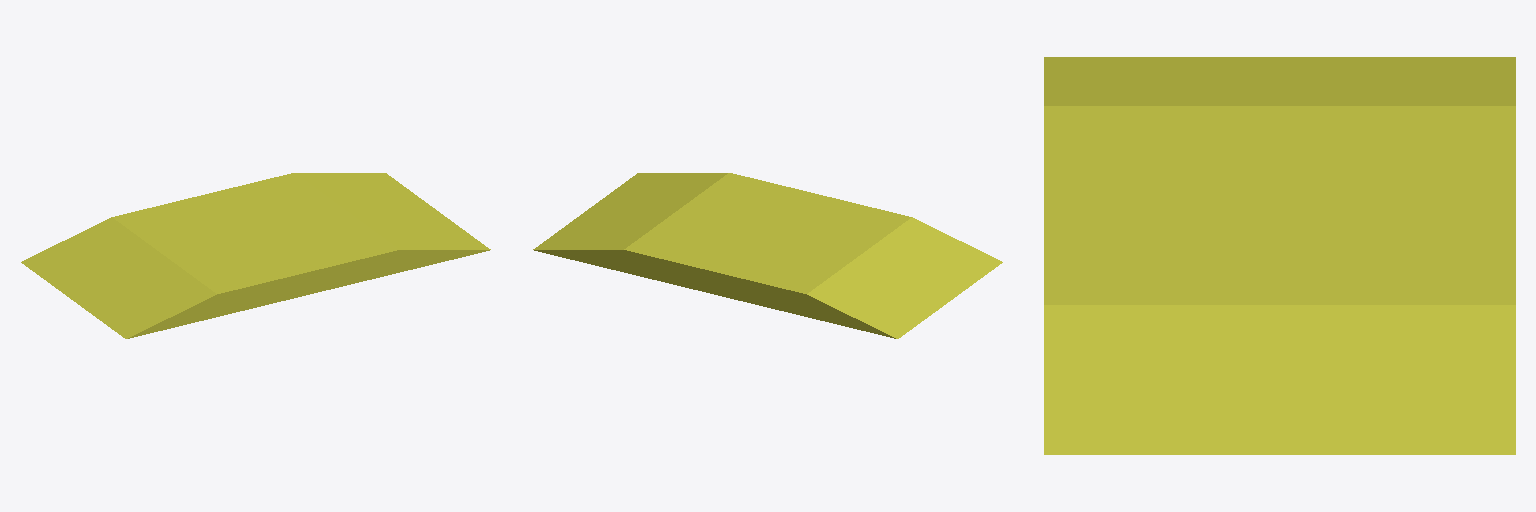
URDF robot description (Part1):
<?xml version="1.0" encoding="utf-8"?>
<!-- This URDF was automatically created by SolidWorks to URDF Exporter! Originally created by [author] ([email redacted]) 
     Commit Version: 1.5.1-0-g916b5db  Build Version: 1.5.7152.31018
     For more information, please see http://wiki.ros.org/sw_urdf_exporter -->
<robot
  name="Part1">
  <link
    name="ramp_5">
    <inertial>
      <origin
        xyz="7.5814E-16 7.67928484115444E-17 -0.005"
        rpy="0 0 0" />
      <mass
        value="500" />
      <inertia
        ixx="180.35"
        ixy="-6.0423E-14"
        ixz="4.7564E-15"
        iyy="450.35"
        iyz="1.08287265732095E-14"
        izz="630" />
    </inertial>
    <visual>
      <origin
        xyz="2.5 0 0"
        rpy="1.5707963267949 0 0" />
      <geometry>
        <mesh
          filename="package://ramp_5/meshes/ramp_5.STL" scale="1.5 3.958 1.5" />
      </geometry>
      <material
        name="">
        <color
          rgba="0.8 0.8 0.3 1" />
        <texture
          filename="package://ramp_5/textures/" />
      </material>
    </visual>
    <collision>
      <origin
        xyz="2.5 0 0"
        rpy="1.5707963267949 0 0" />
      <geometry>
        <mesh
          filename="package://ramp_5/meshes/ramp_5.STL"  scale="1.5 3.958 1.5"/>
      </geometry>
    </collision>
  </link>
</robot>

--- What the picture shows (computed from the rendered views, not written in the file) ---
3 views of the same robot in one strip: view 1: azimuth 30°, elevation 25°; view 2: azimuth 150°, elevation 25°; view 3: azimuth 270°, elevation 25° (orthographic).
Robot: Part1 — 1 links, 0 joints (none); root link ramp_5; default pose: all joints at 0.
Visible links, largest first — view 1: ramp_5; view 2: ramp_5; view 3: ramp_5.
Link boxes in pixels (box(x1,y1,x2,y2)): ramp_5: box(21, 173, 490, 338); ramp_5: box(533, 173, 1002, 338); ramp_5: box(1044, 57, 1515, 454).
Size in the robot's own frame: 6 by 3 by 0.3562 metres.
1 mesh visuals loaded from 1 distinct referenced files (1 binary STL).